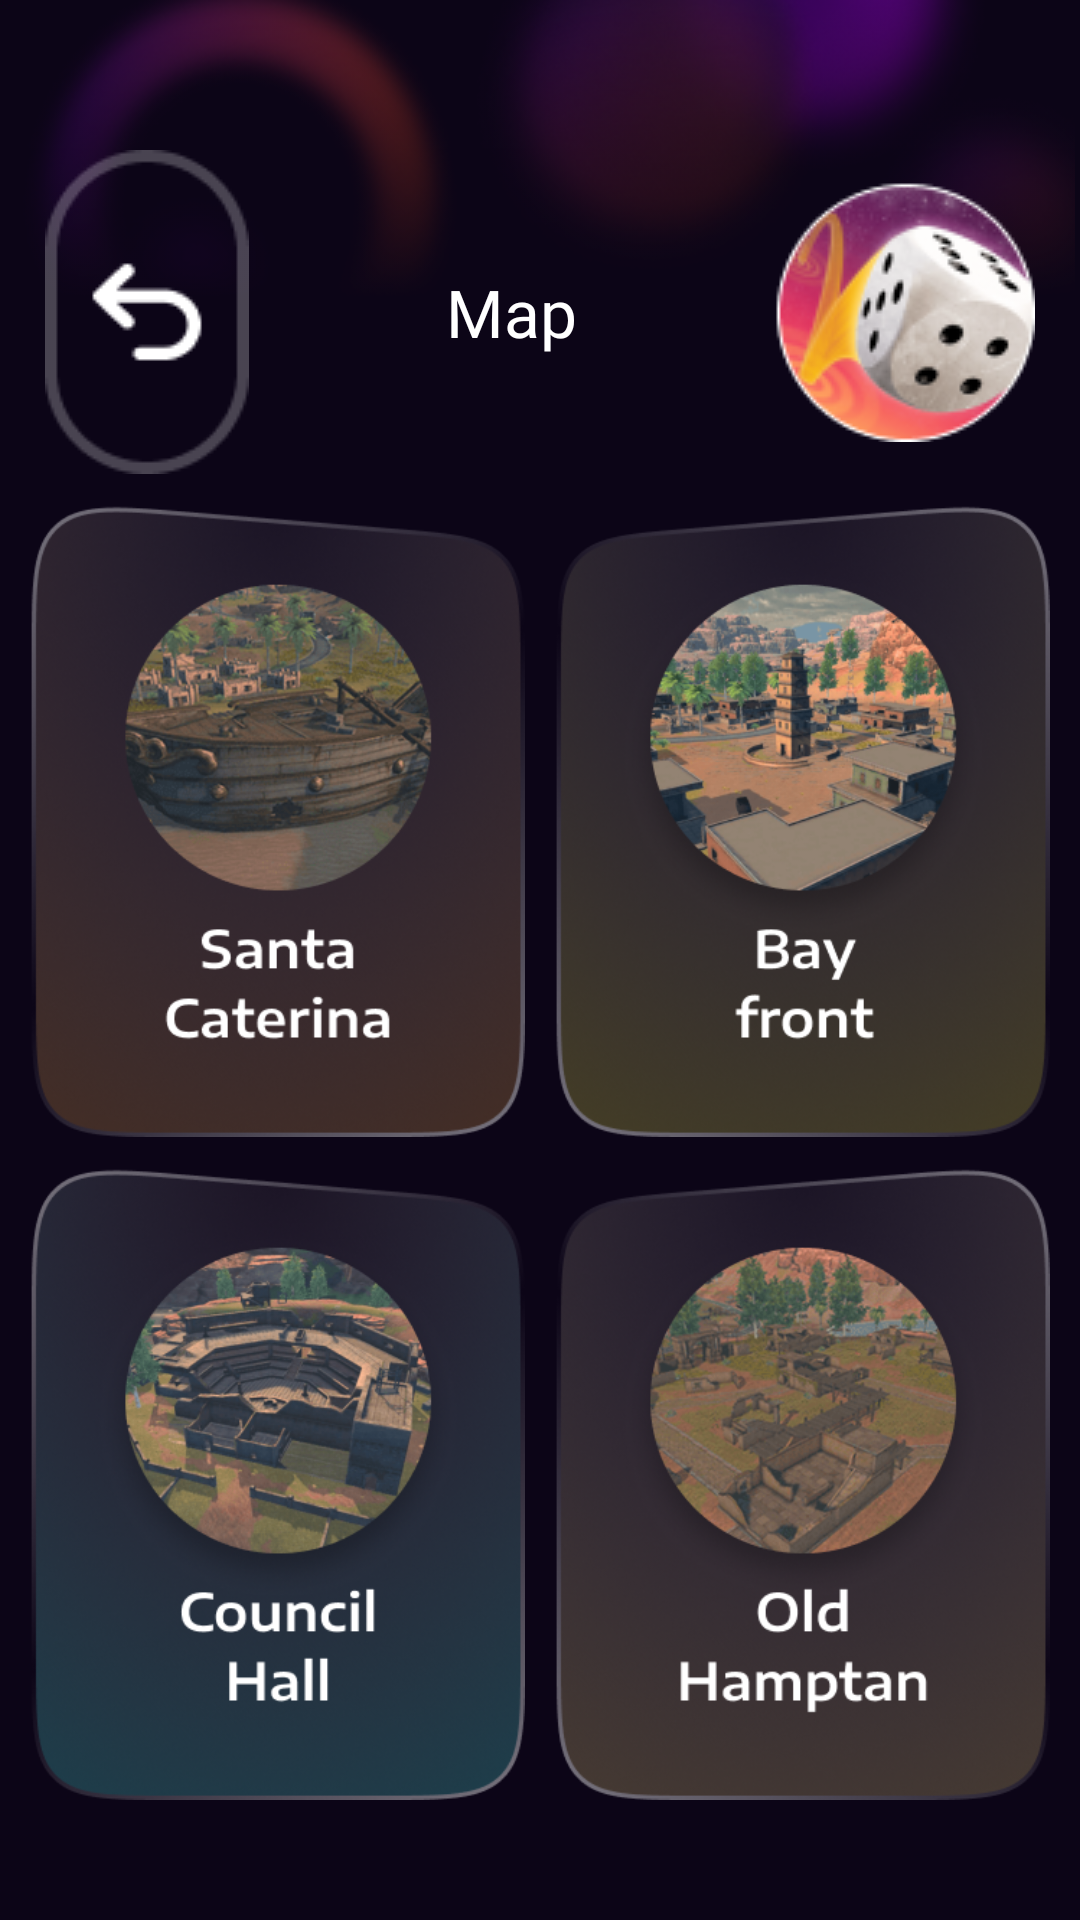

Icon bounding boxes for this 1080×1920 phone screenshot, format rect(x1, y1, x2, y2):
back: rect(45, 150, 249, 474)
